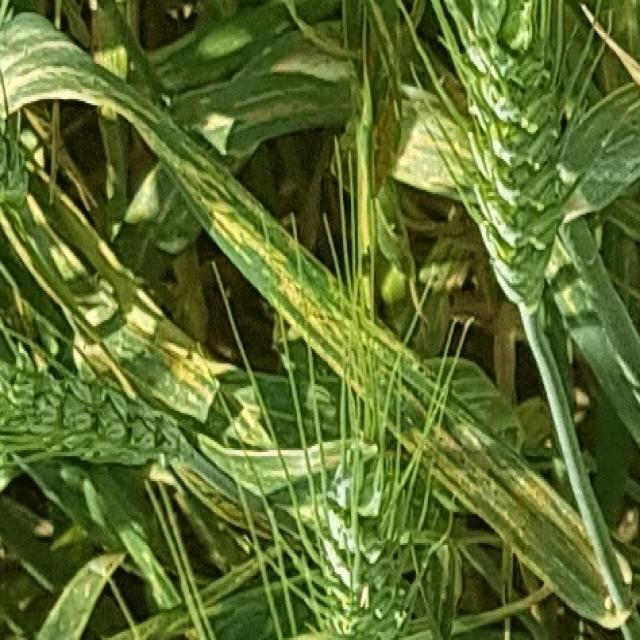Yellow Rust: (381, 387, 565, 545), (209, 192, 360, 324), (55, 335, 221, 421)
